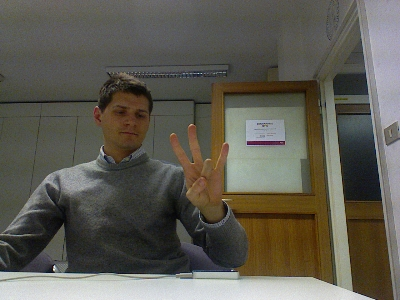观音: (167, 122, 231, 210)
